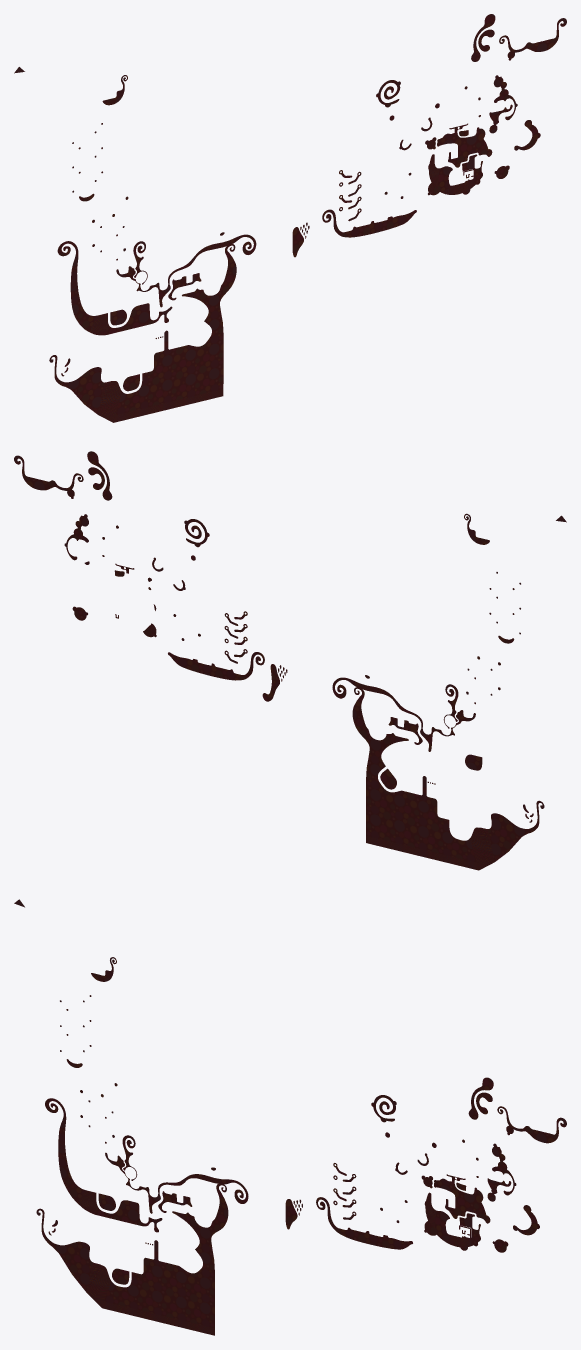
Rendered from star01.glb.
3 views of the same model, one above another, from view 1: azimuth 30°, elevation 25°; view 2: azimuth 150°, elevation 25°; view 3: azimuth 330°, elevation 25° (orthographic). The views are drawn at different scales.
Parts seen in each view (by area): view 1: star01; view 2: star01; view 3: star01.
Boxes of the visible parts, x1,y1,x2,y2 form: star01: [14, 14, 566, 422]; star01: [14, 451, 566, 870]; star01: [14, 899, 566, 1335].
Bounding box in the file's own units: 4665 × 3042 × 111.
1 material, 1 textured.
